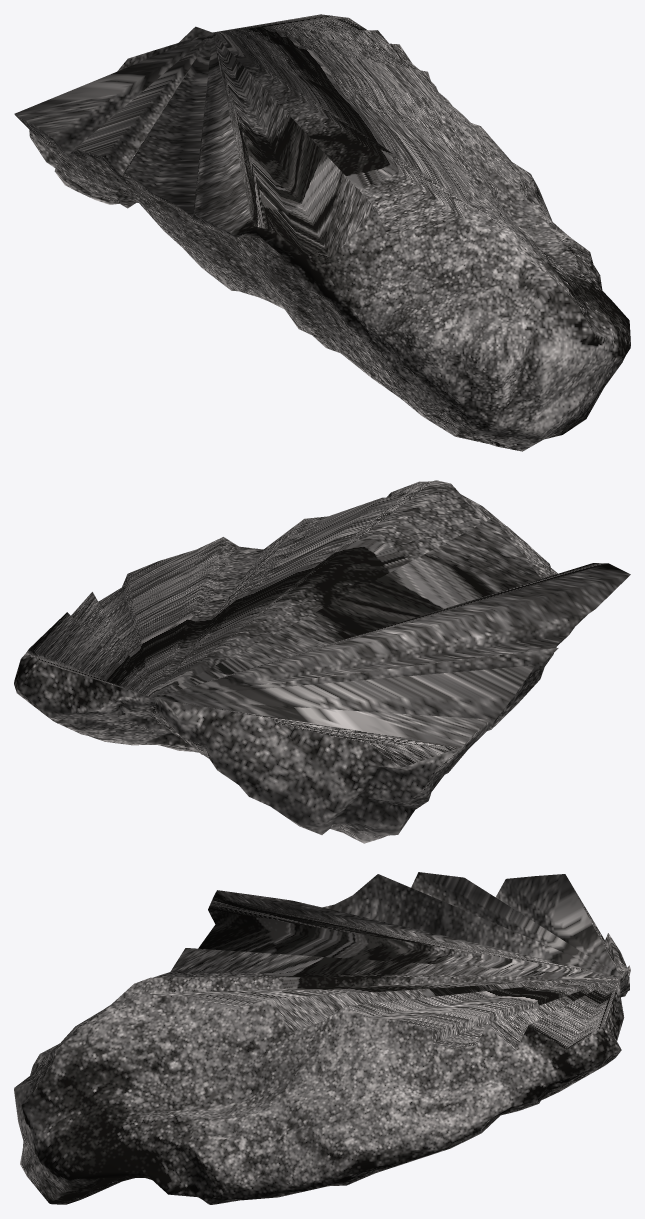
File: stenasverhu2kamen.fbx
The picture shows the model from 3 angles, top to bottom: view 1: azimuth 30°, elevation 25°; view 2: azimuth 150°, elevation 25°; view 3: azimuth 270°, elevation 25°; orthographic projection. The views are drawn at different scales.
Visible parts, largest first — view 1: Low_uw; view 2: Low_uw; view 3: Low_uw.
Part boxes in pixels (x1,y1,x2,y2): Low_uw: [14, 14, 630, 451]; Low_uw: [14, 480, 630, 843]; Low_uw: [14, 872, 630, 1204].
Bounding box in the file's own units: 78.87 × 40.29 × 104.
